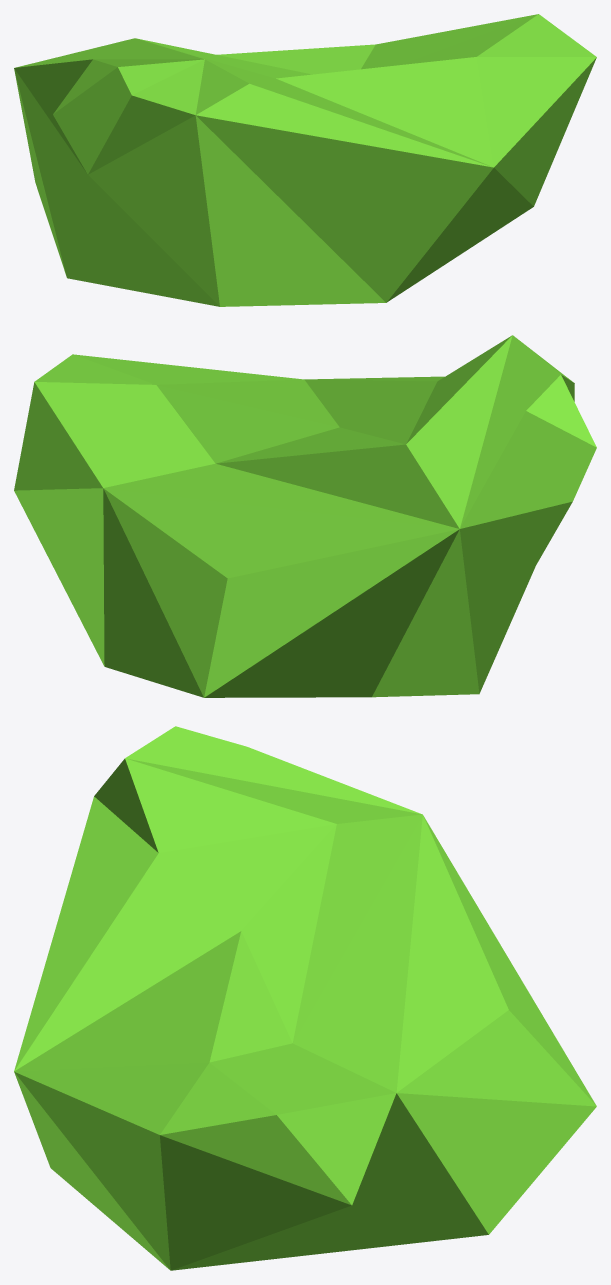
File: kust_4.fbx
3 renders of one model, top to bottom at view 1: azimuth 30°, elevation 25°; view 2: azimuth 150°, elevation 25°; view 3: azimuth 270°, elevation 25°, orthographic. The views are drawn at different scales.
Parts seen in each view (by area): view 1: Cube.004; view 2: Cube.004; view 3: Cube.004.
Boxes of the visible parts, x1=… form: Cube.004: x1=14, y1=14, x2=596, y2=306; Cube.004: x1=14, y1=335, x2=596, y2=697; Cube.004: x1=14, y1=726, x2=596, y2=1270.
Size of the model in its own units: 235 by 115 by 184.
